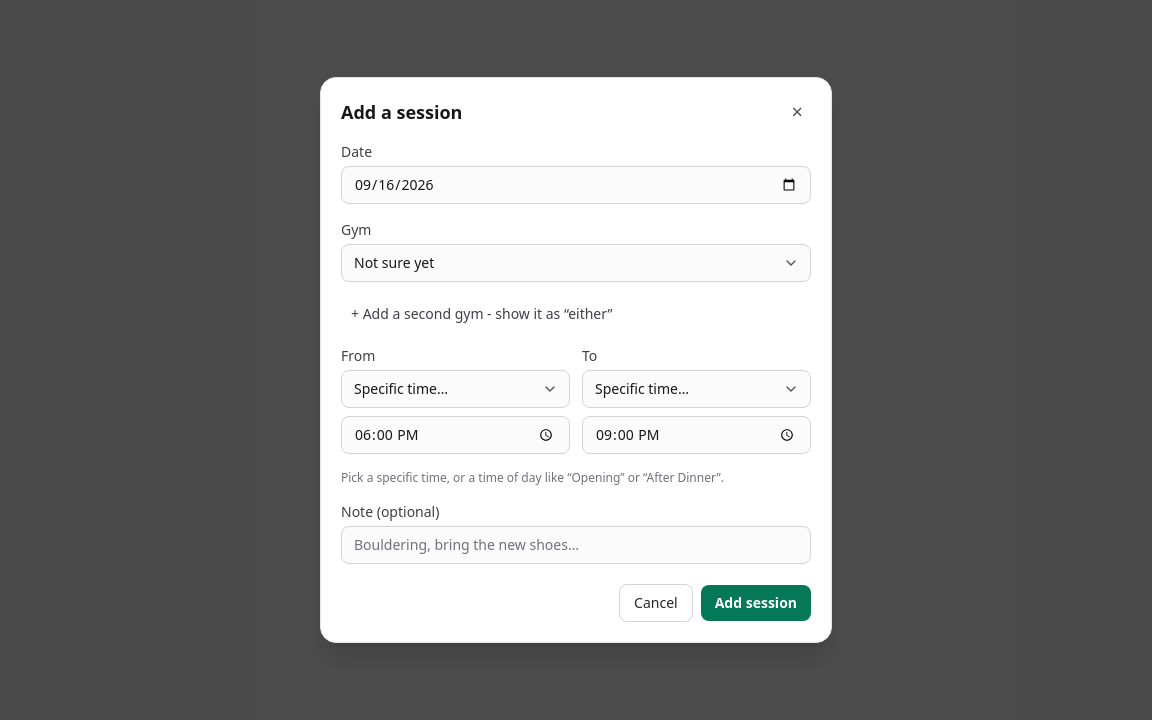
Scenario: <SessionFormModal /> › rejects a slot window that ends before it starts
The image size is (1152, 720).
Select "After Dinner" in the dropdown labelled "From" at coordinates (456, 389), box [341,370,570,408]
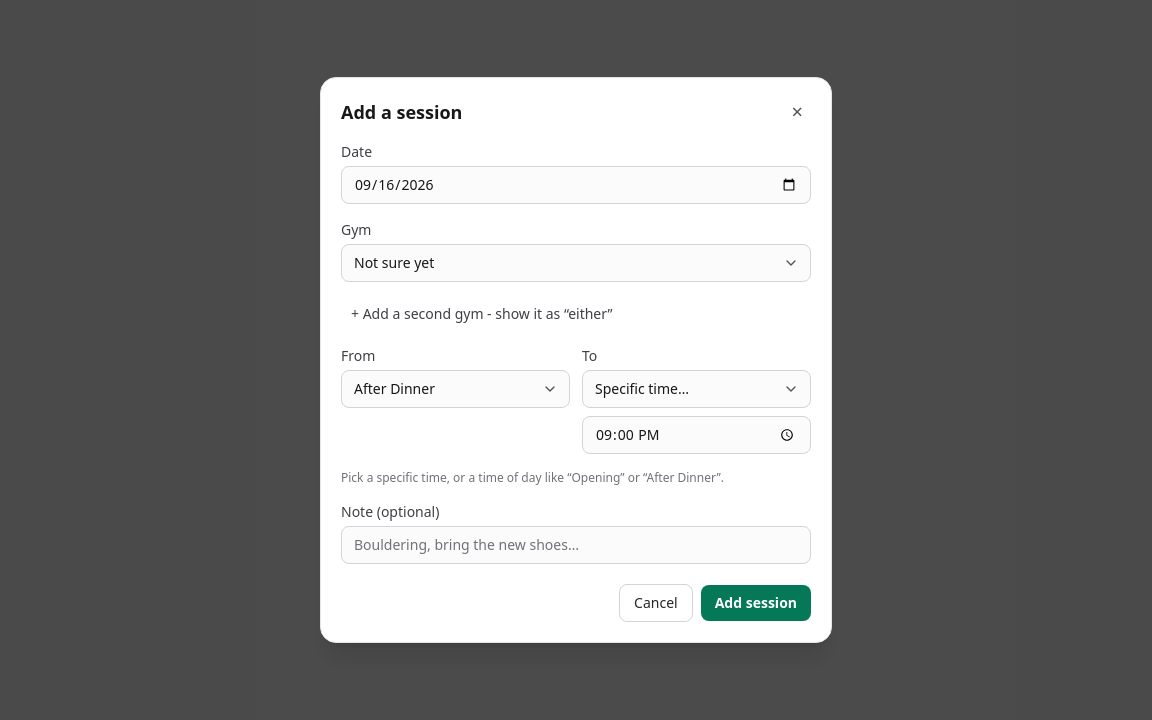
Select "Opening" in the dropdown labelled "To" at coordinates (696, 389), box [582,370,811,408]
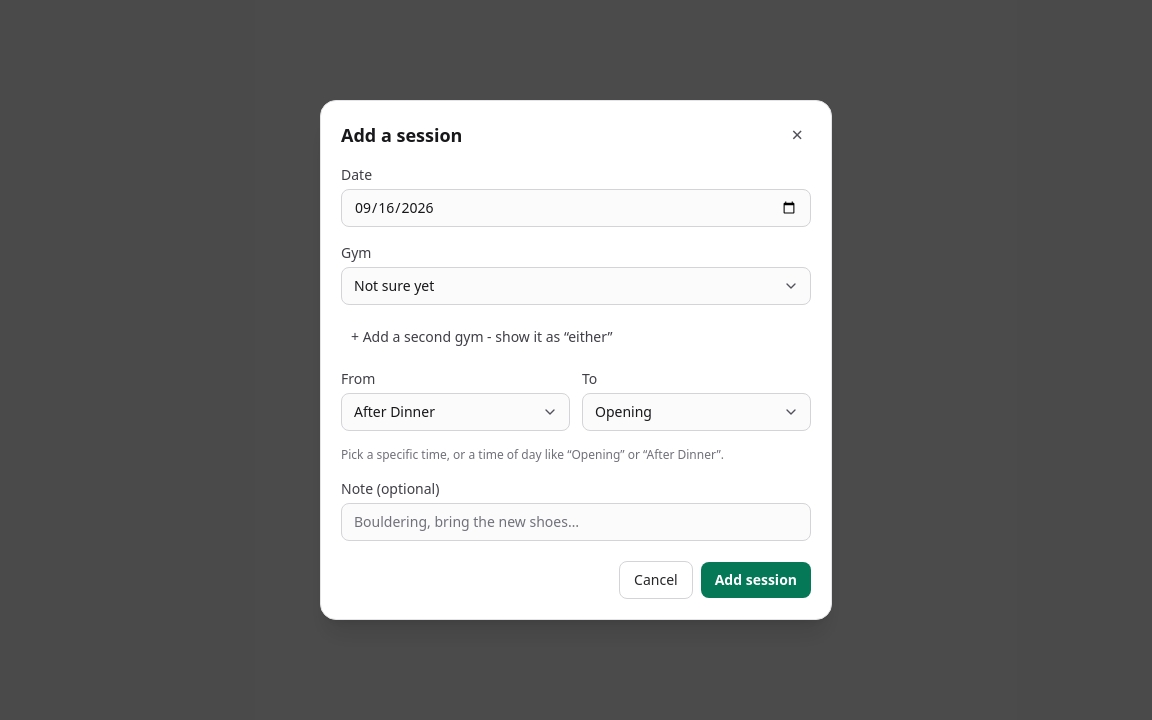
Click the button "Add session" at coordinates (756, 580), box [701,562,811,598]
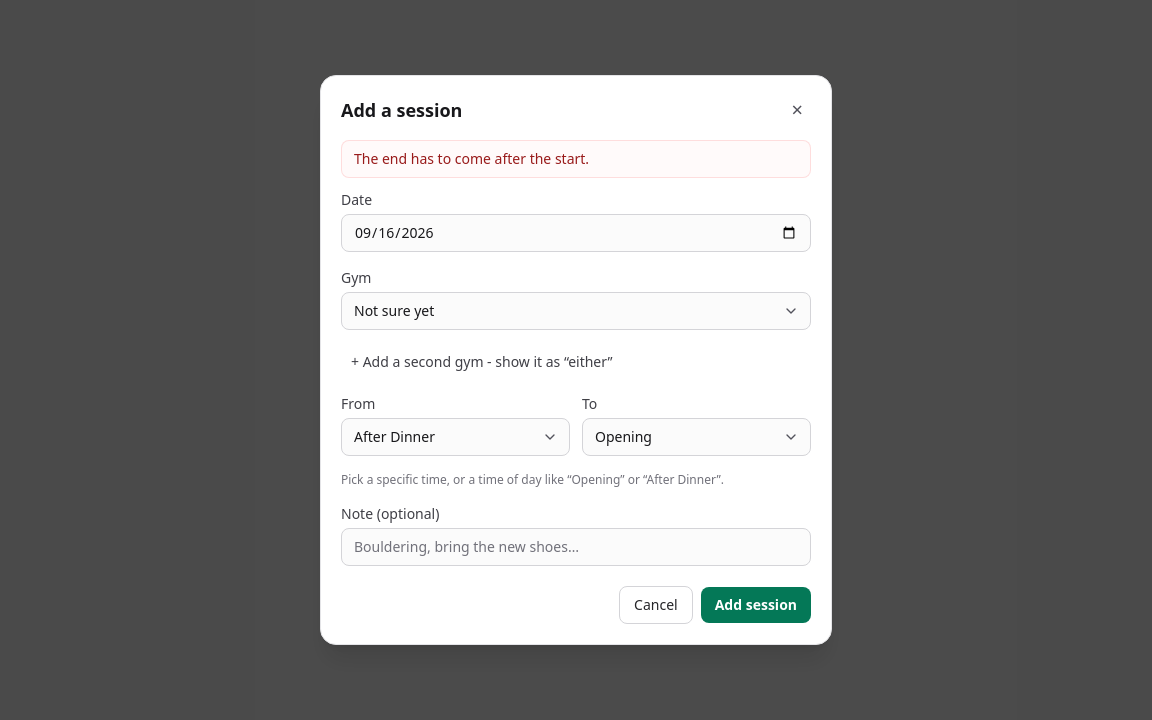
Expected: the text "The end has to come after the start." is shown, [354,149,589,169]
